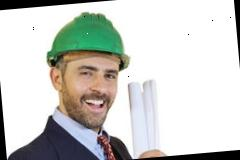helmet: (38, 7, 134, 75)
